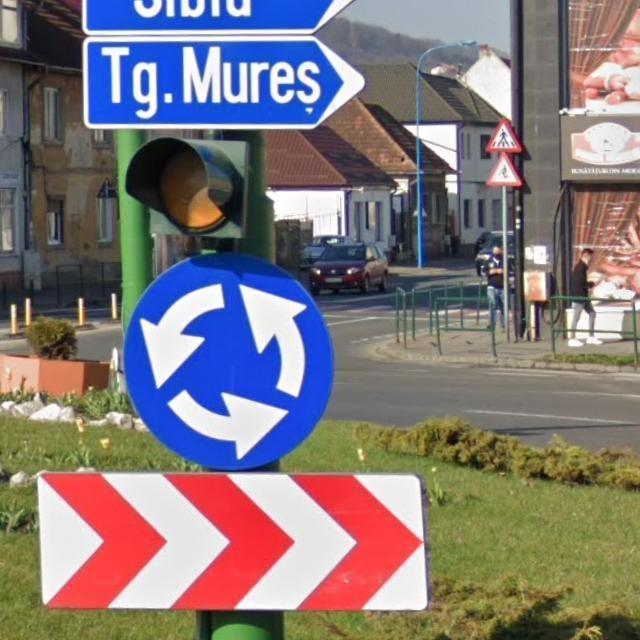warn_crosswalk: (486, 118, 522, 154)
